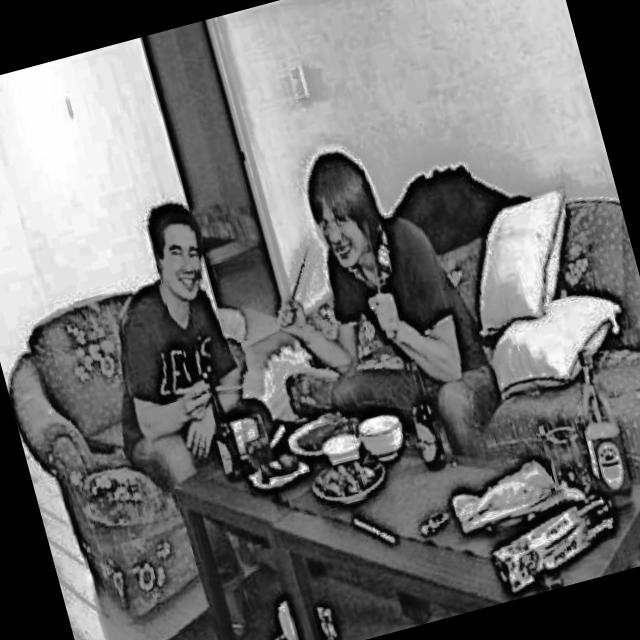Person: (64, 191, 309, 640), (236, 122, 519, 510)
